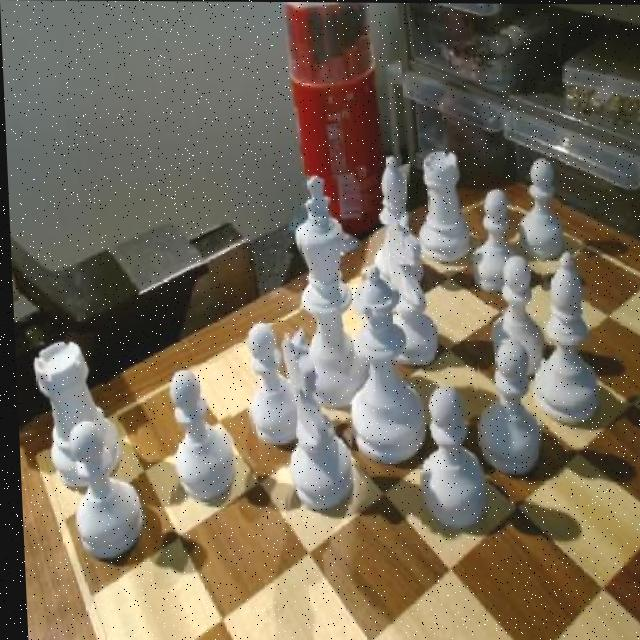black-rook: (520, 247, 596, 428), (368, 153, 408, 285)
white-bishop: (290, 175, 363, 403)
white-king: (271, 329, 350, 507), (376, 221, 433, 368)
white-knight: (160, 366, 233, 508), (410, 385, 481, 530), (67, 422, 136, 563), (469, 341, 540, 476), (237, 322, 294, 449), (487, 255, 542, 370), (465, 187, 515, 299), (512, 158, 560, 259)
white-pawn: (341, 268, 424, 468)
white-queen: (26, 331, 116, 494), (410, 148, 468, 265)
